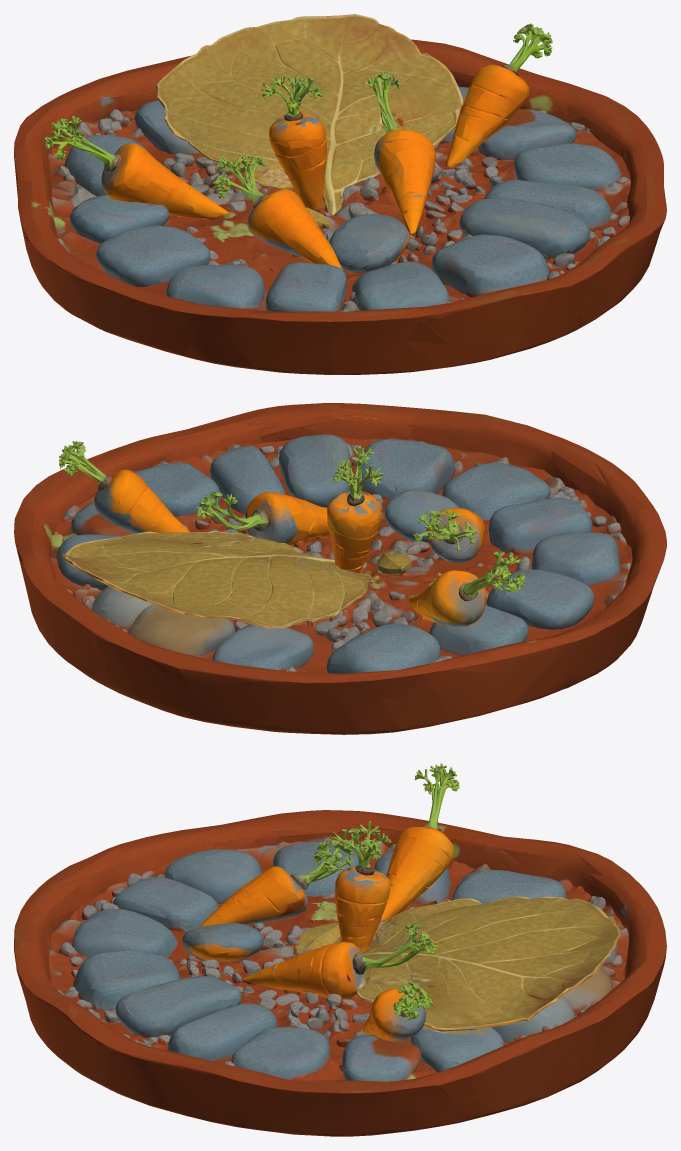
Rendered from meshy-1795547219303.glb.
The picture shows the model from 3 angles, top to bottom: view 1: azimuth 30°, elevation 25°; view 2: azimuth 150°, elevation 25°; view 3: azimuth 270°, elevation 25°; orthographic projection. The views are drawn at different scales.
Size of the model in its own units: 1.9 by 0.526 by 1.87.
1 material, 1 textured.
